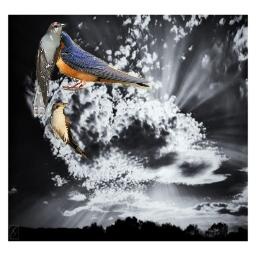Cuckoo: (32, 21, 68, 117), (49, 102, 89, 160)
Swallow: (43, 29, 151, 94)
